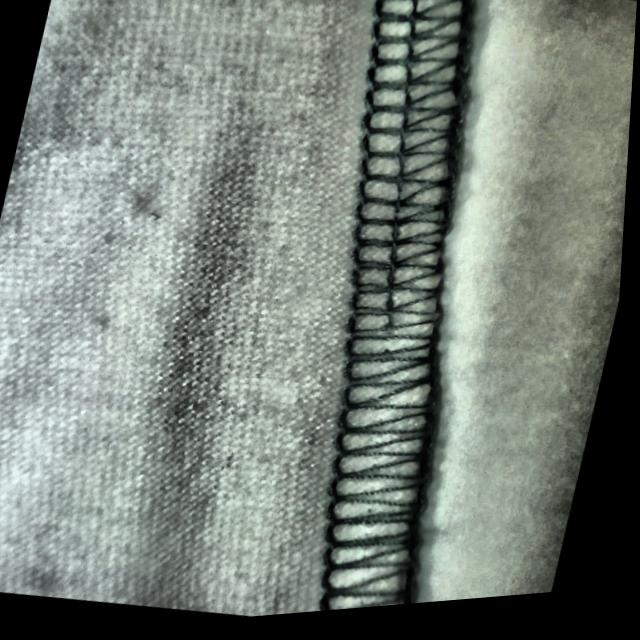Stitch: (271, 76, 517, 546)
